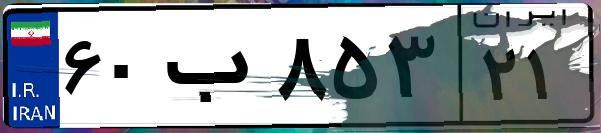0: (110, 28, 158, 98)
1: (525, 38, 570, 115)
2: (475, 38, 525, 113)
3: (385, 28, 445, 110)
5: (330, 28, 385, 110)
6: (57, 26, 110, 100)
8: (270, 28, 330, 110)
ب: (158, 20, 270, 120)
